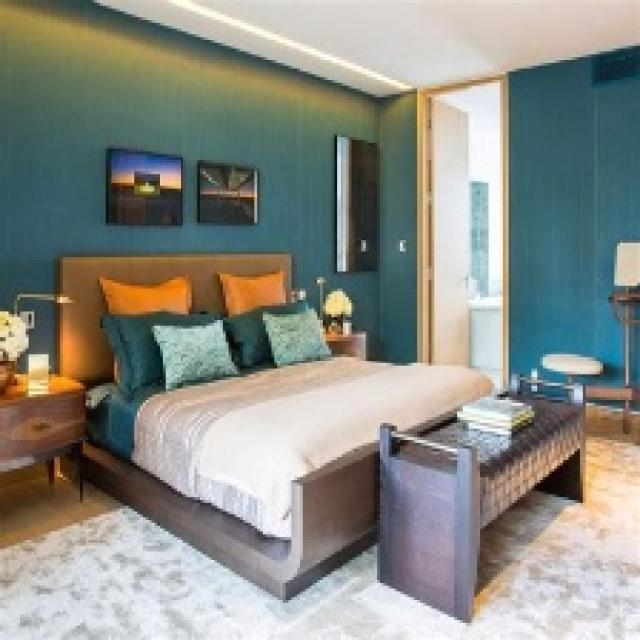Bed: (54, 251, 494, 600)
